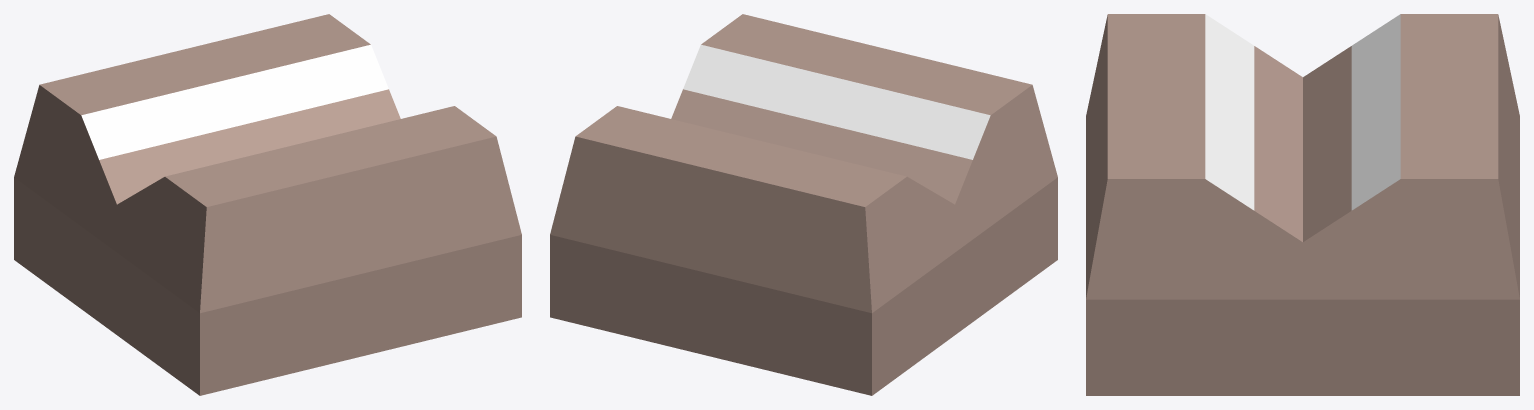
The model's file is slider_handle2.fbx.
The picture shows the model from 3 angles, left to right: view 1: azimuth 30°, elevation 25°; view 2: azimuth 150°, elevation 25°; view 3: azimuth 270°, elevation 25°; orthographic projection. The views are drawn at different scales.
Parts seen in each view (by area): view 1: mesh1401799193; view 2: mesh1401799193; view 3: mesh1401799193.
Part boxes in pixels (x1,y1,x2,y2): mesh1401799193: (14, 14, 521, 395); mesh1401799193: (550, 14, 1057, 395); mesh1401799193: (1086, 14, 1519, 395).
Size of the model in its own units: 5 by 2.64 by 5.
